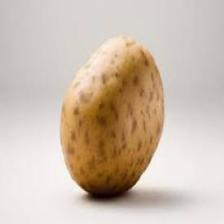Diseased-fungal potato: (45, 34, 168, 193)
